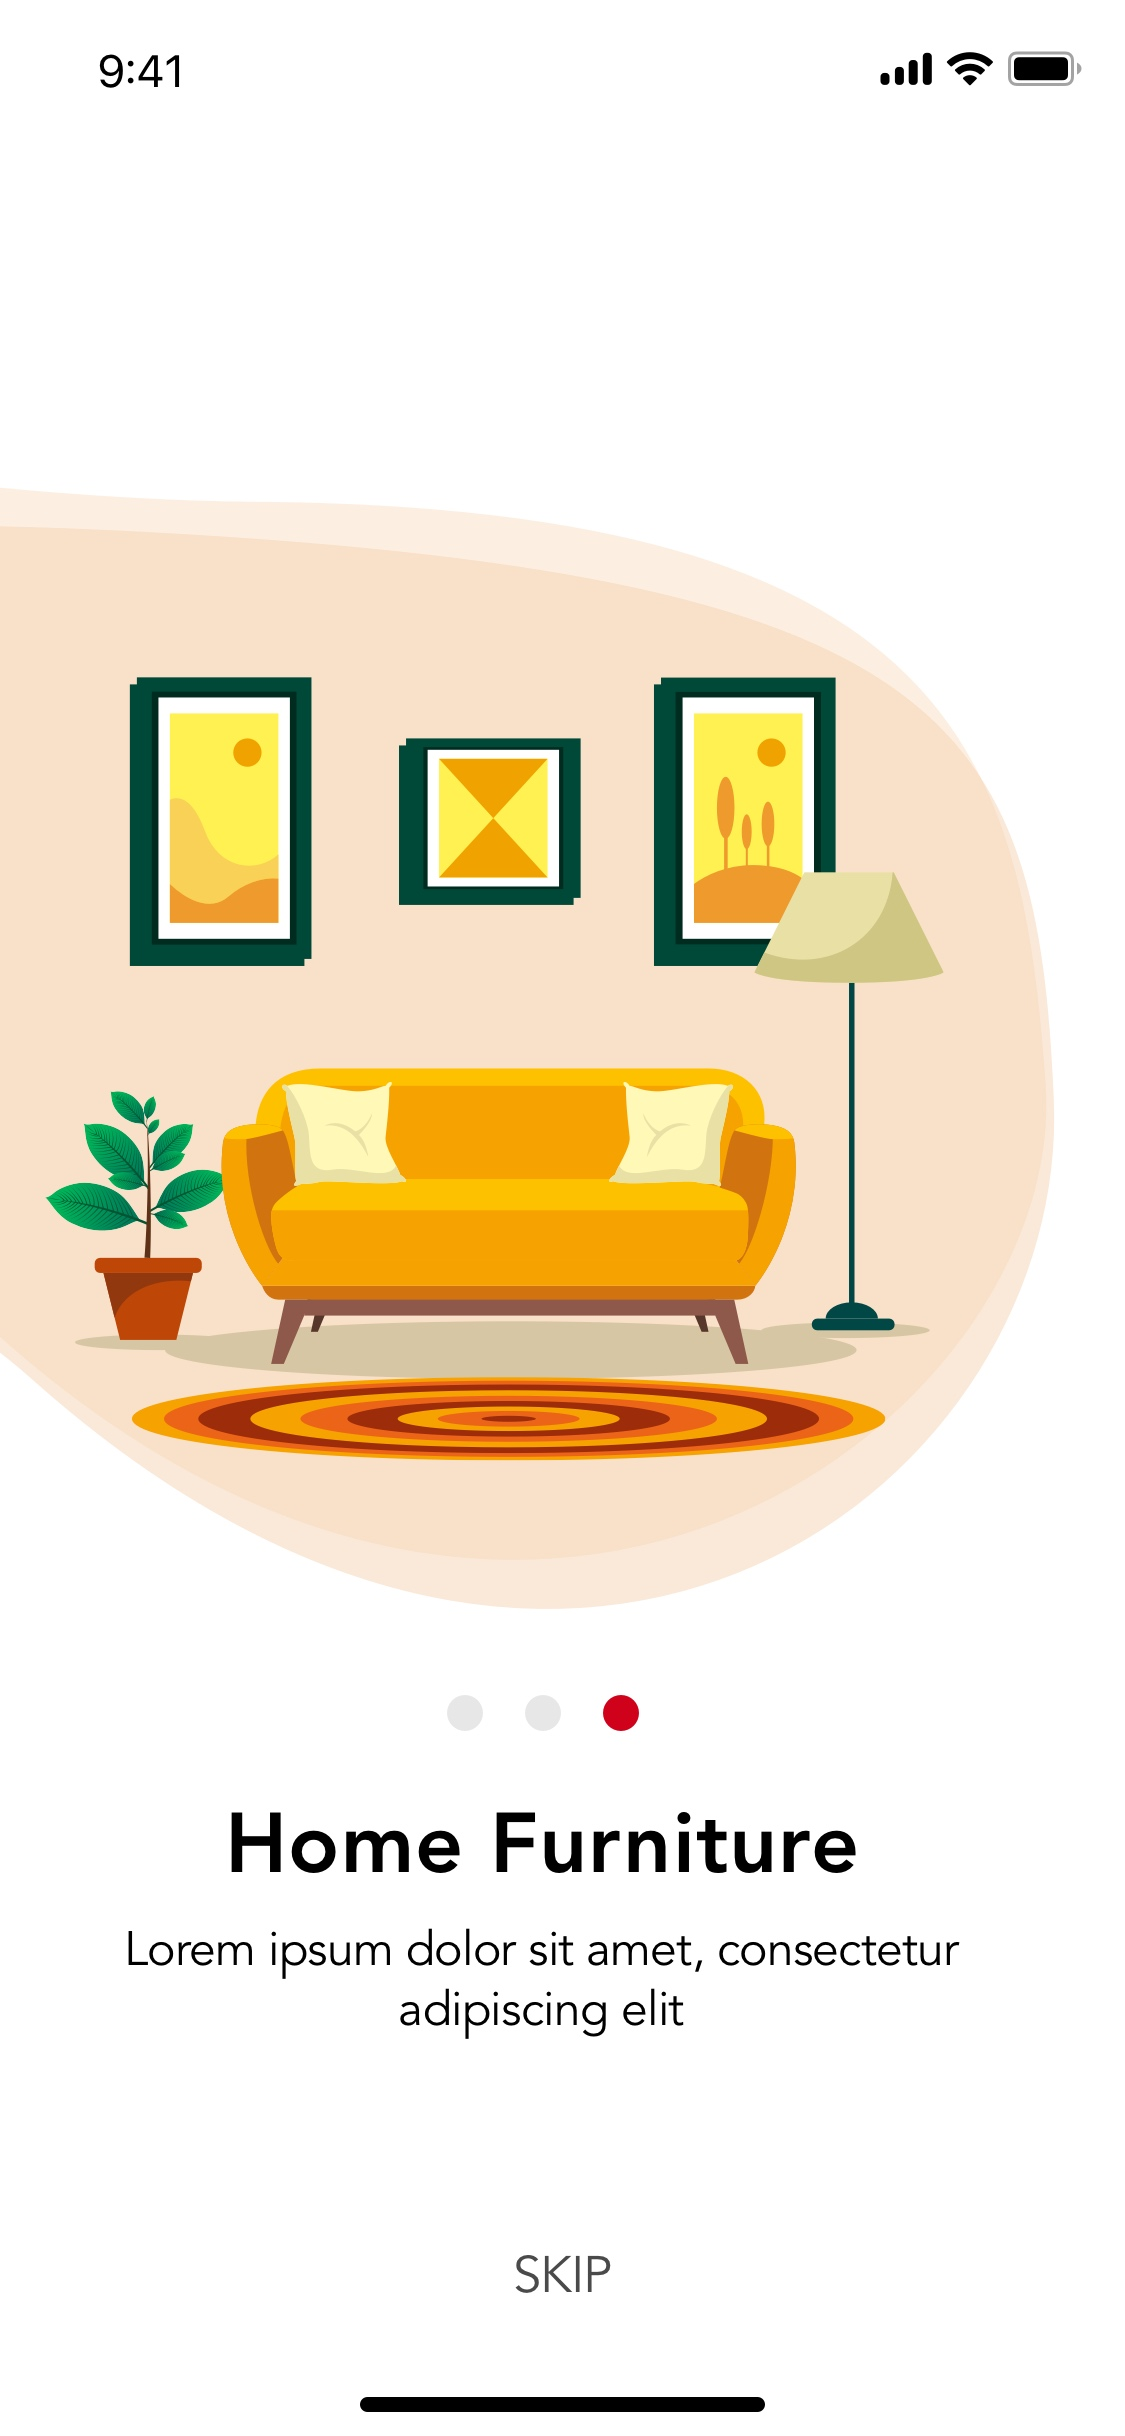Image: (47, 676, 948, 1462)
PageIndicator: (448, 1693, 642, 1732)
Text: (127, 1928, 960, 2040), (232, 1811, 858, 1874), (514, 2254, 611, 2295)
UpperTaskBar: (99, 51, 1083, 89)
